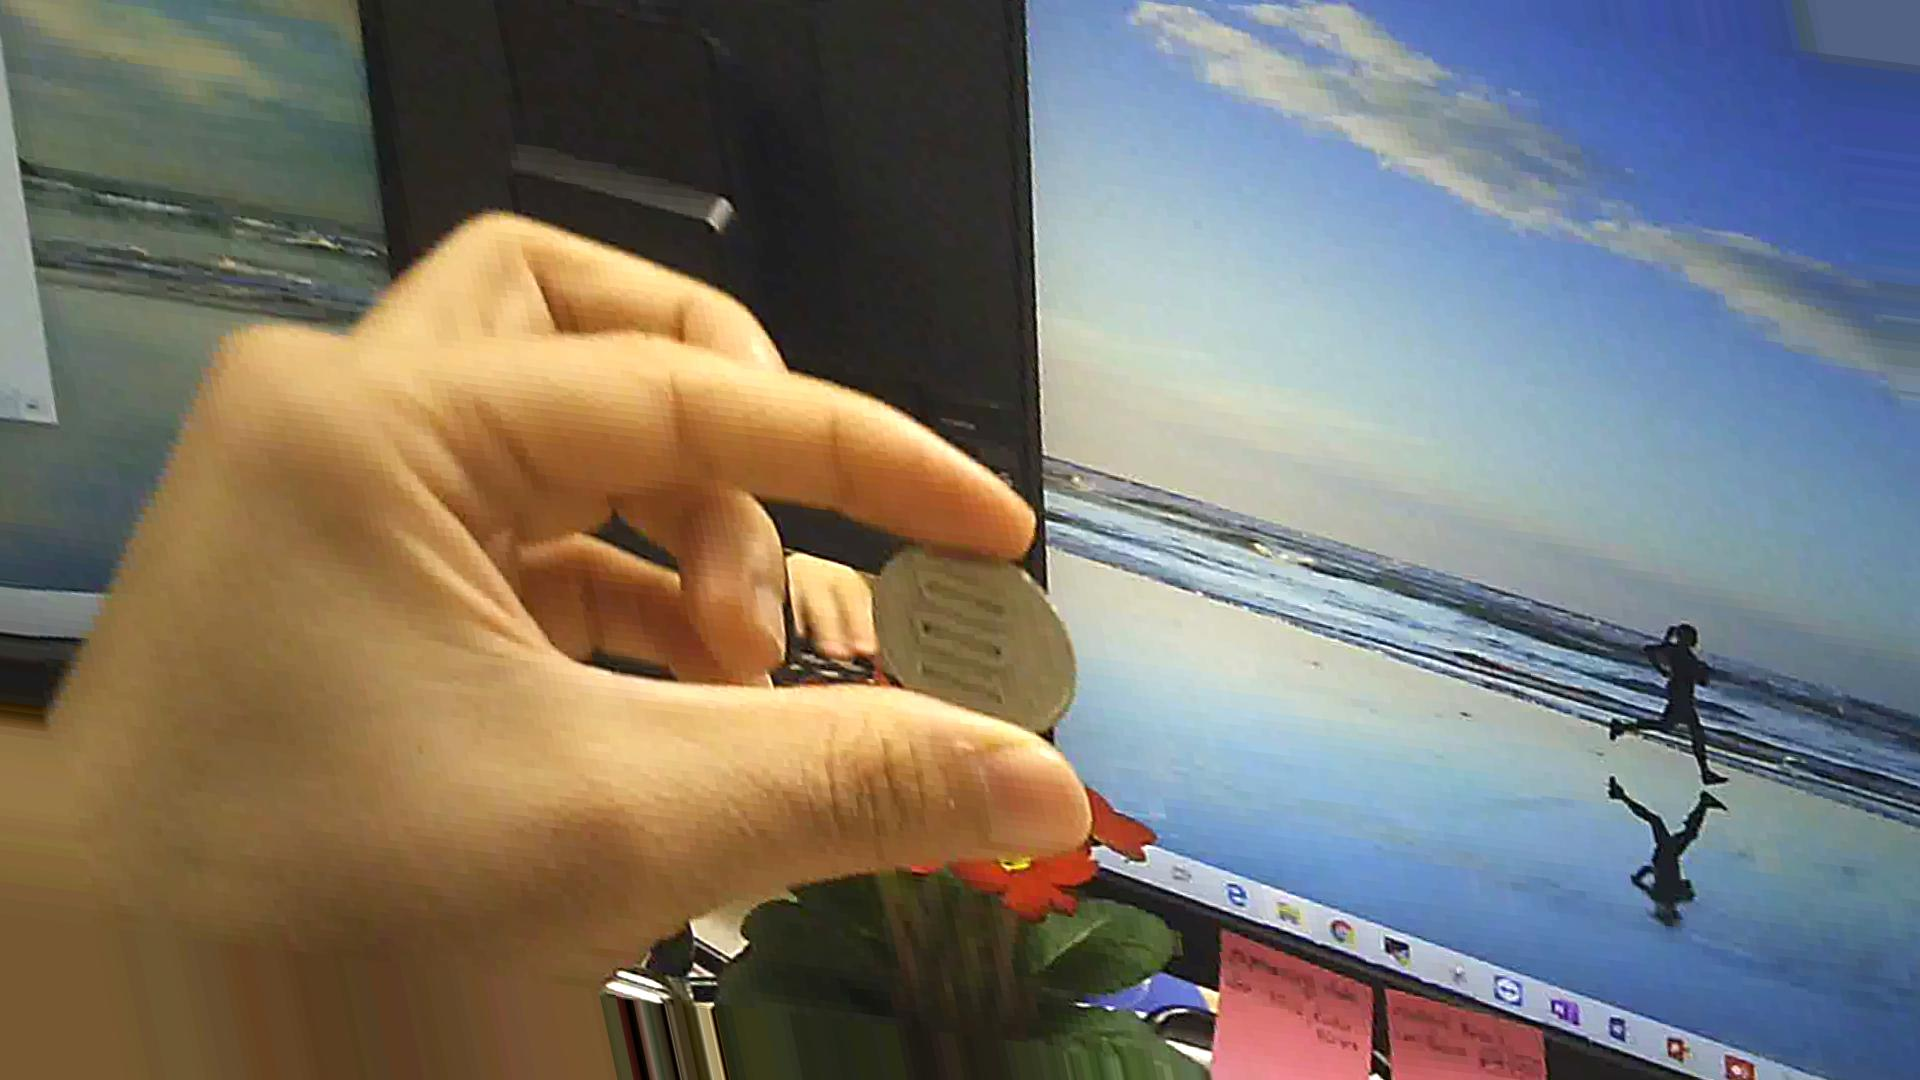100 Yen: (856, 527, 1080, 727)
